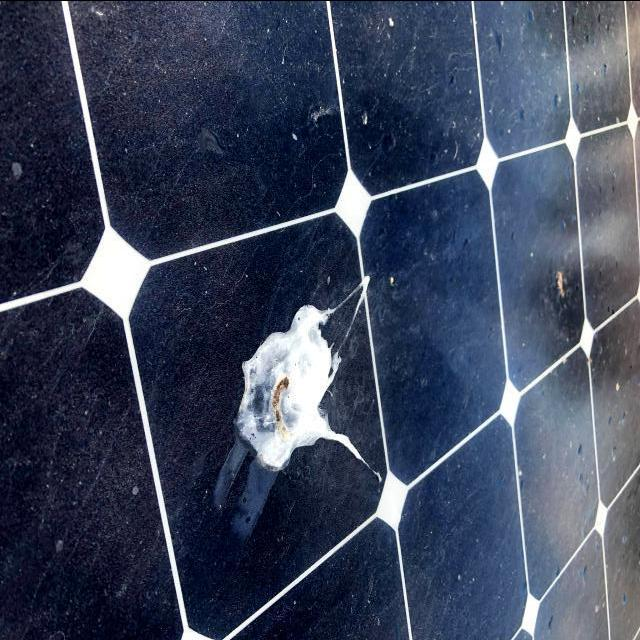soiled: (2, 0, 636, 633)
